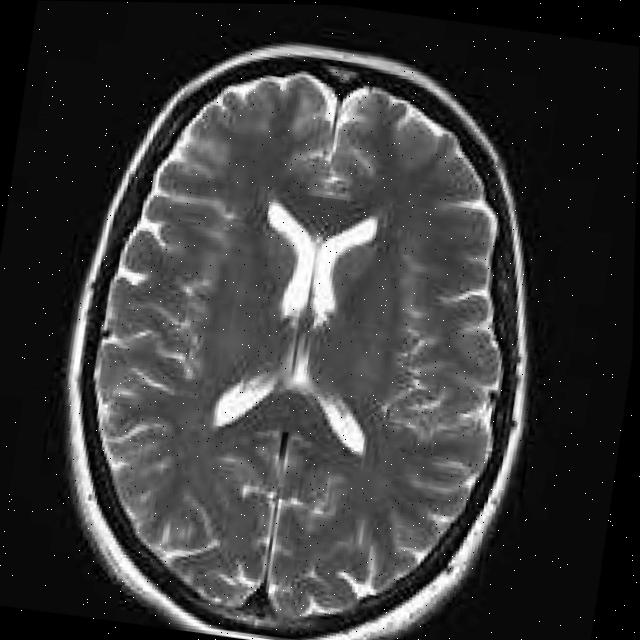NoTumor: (53, 40, 550, 640)
